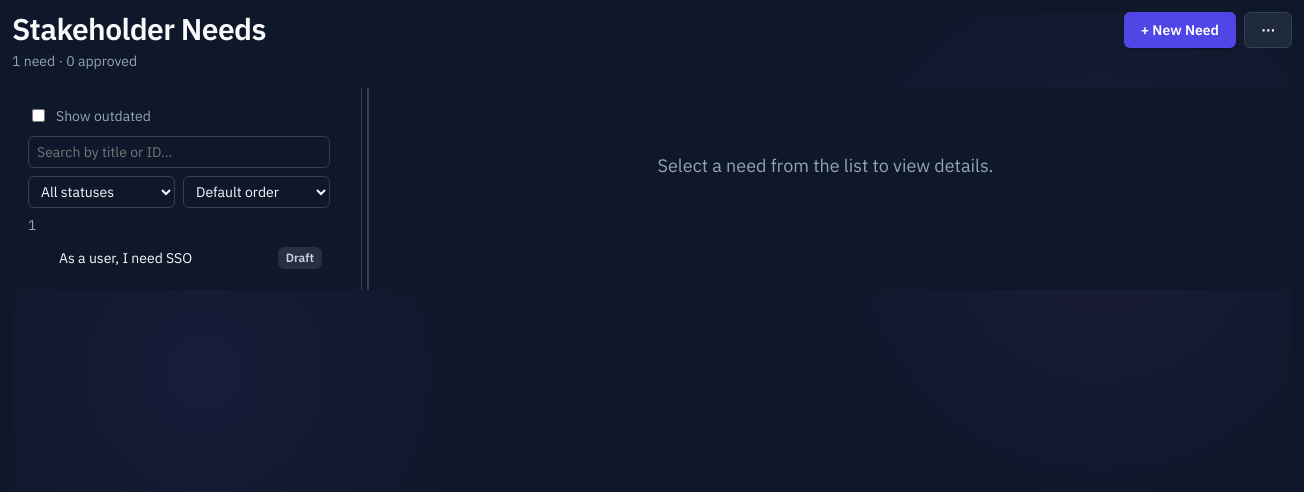
Scenario: NeedsEditors — include_deleted reveals outdated needs (D6) › reveals and badges the outdated need only after the toggle is on
Click the checkbox with test id "need-list-include-deleted" at (38, 116), box [32,109,45,122]
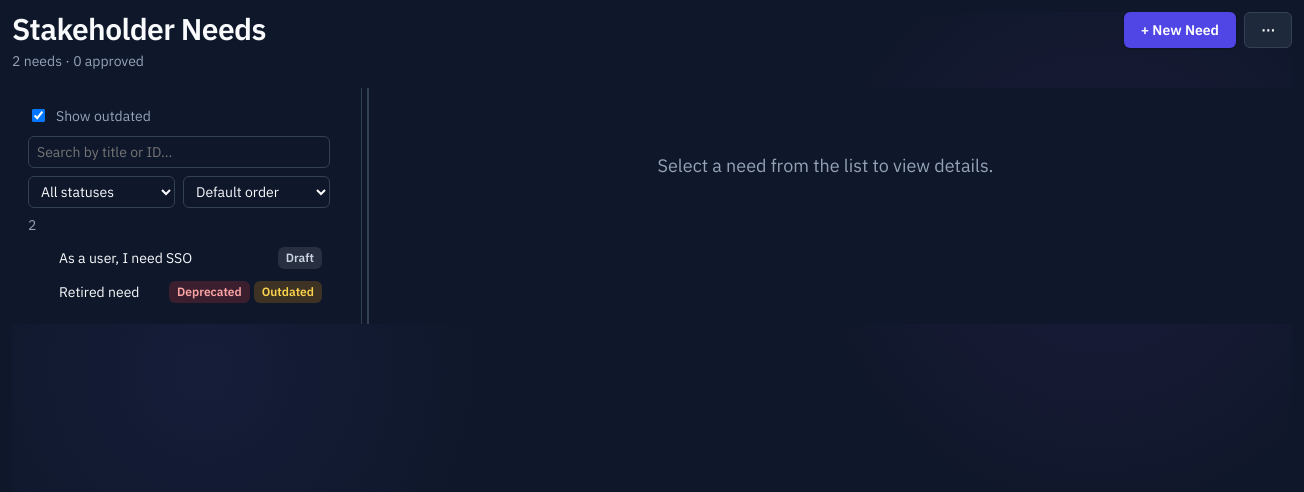
Now the list item with test id "need-list-tree-node-need-outdated-1" is shown, box [28,276,330,308]
Now the text "Outdated" is shown, box [254,280,322,302]
